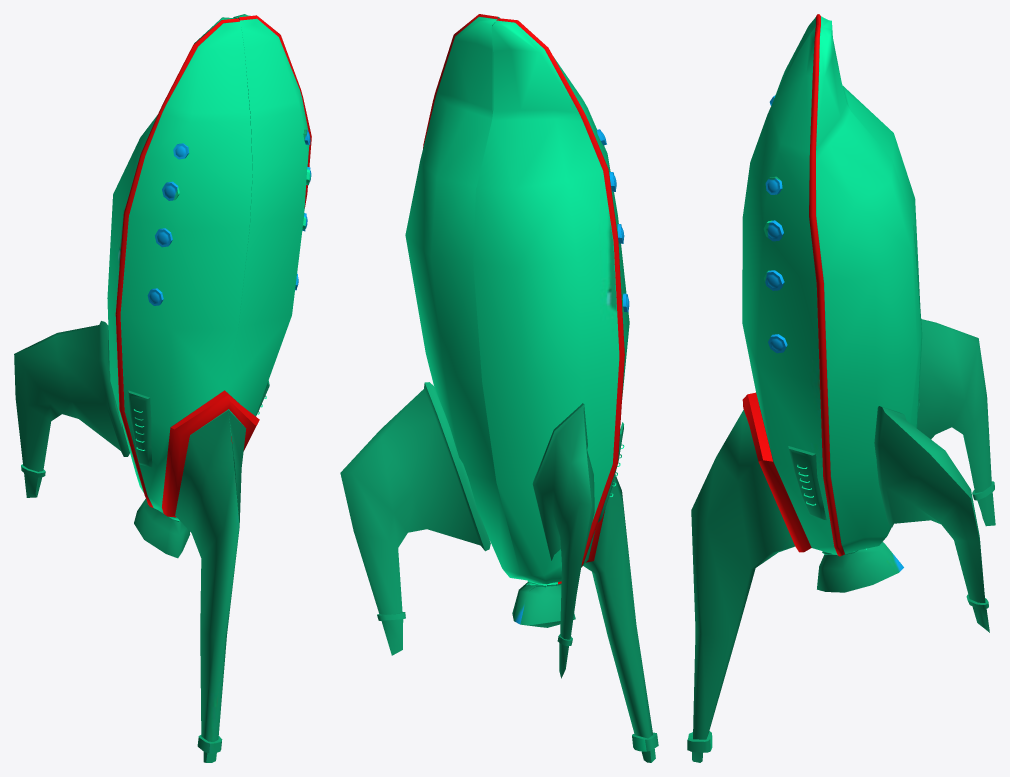
3 views of the same model, side by side, from view 1: azimuth 30°, elevation 25°; view 2: azimuth 150°, elevation 25°; view 3: azimuth 270°, elevation 25° (orthographic). The views are drawn at different scales.
Visible parts, largest first — view 1: nave futurama_Material #4_0; view 2: nave futurama_Material #4_0; view 3: nave futurama_Material #4_0.
Boxes of the visible parts, left/top/right/bottom form: nave futurama_Material #4_0: left=14, top=14, right=311, bottom=762; nave futurama_Material #4_0: left=340, top=14, right=658, bottom=762; nave futurama_Material #4_0: left=687, top=14, right=995, bottom=762.
Bounding box in the file's own units: 2.14 × 6.14 × 2.19.
Materials: 1 (1 with a texture image).
